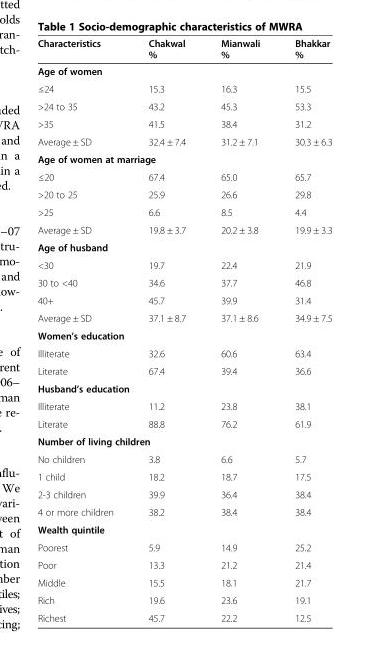table: (36, 37, 331, 623)
table column: (36, 37, 130, 623), (202, 37, 276, 623), (130, 37, 202, 623), (276, 37, 331, 623)
table column header: (36, 37, 331, 62)
table projected row header: (36, 238, 331, 256), (36, 326, 331, 344), (36, 379, 331, 397), (36, 432, 331, 450), (36, 520, 331, 538), (36, 62, 331, 79), (36, 150, 331, 167)
table row: (36, 37, 331, 62), (36, 79, 331, 97), (36, 114, 331, 132), (36, 132, 331, 150), (36, 167, 331, 185), (36, 185, 331, 203), (36, 220, 331, 238), (36, 238, 331, 256), (36, 273, 331, 291), (36, 308, 331, 326), (36, 326, 331, 344), (36, 361, 331, 379), (36, 379, 331, 397), (36, 414, 331, 432), (36, 432, 331, 450), (36, 467, 331, 485), (36, 502, 331, 520), (36, 520, 331, 538), (36, 555, 331, 573), (36, 573, 331, 591), (36, 62, 331, 79), (36, 97, 331, 114), (36, 150, 331, 167), (36, 203, 331, 220), (36, 256, 331, 273), (36, 291, 331, 308), (36, 344, 331, 361), (36, 397, 331, 414), (36, 450, 331, 467), (36, 485, 331, 502), (36, 538, 331, 555), (36, 591, 331, 608), (36, 608, 331, 623)
